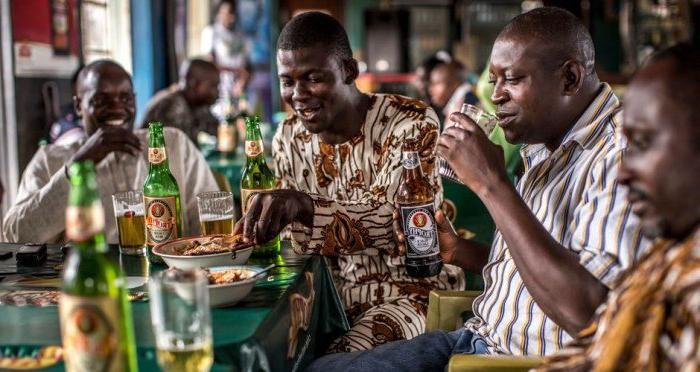Drunk: (485, 39, 567, 143), (274, 43, 344, 133), (86, 67, 137, 140)
